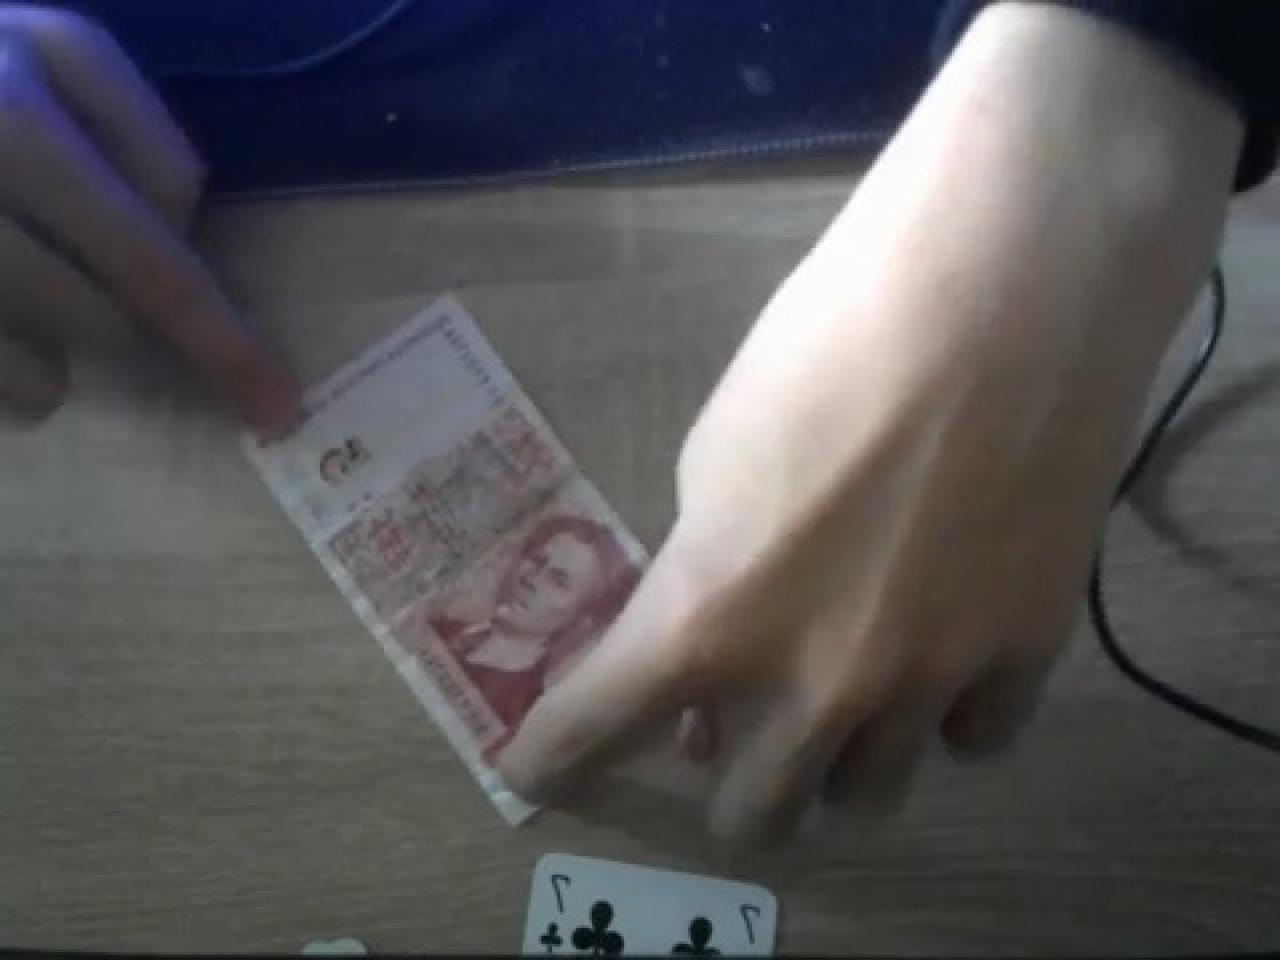5leva: (237, 302, 653, 829)
